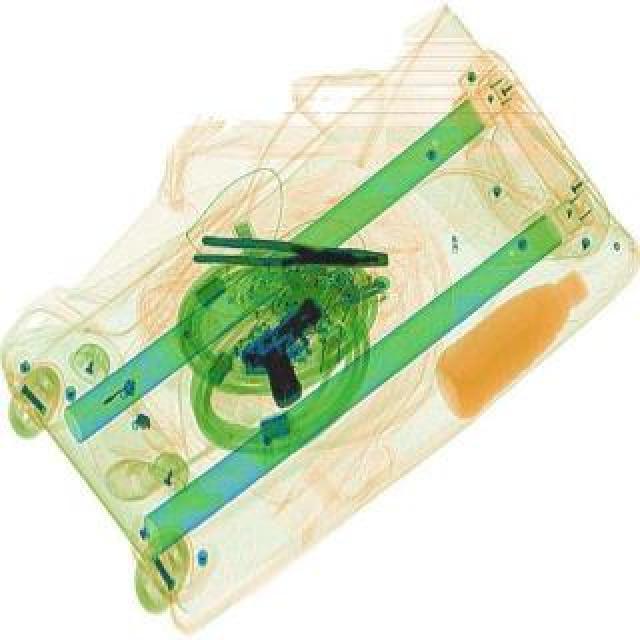gun: (234, 298, 364, 414)
wrench: (196, 240, 392, 278)
